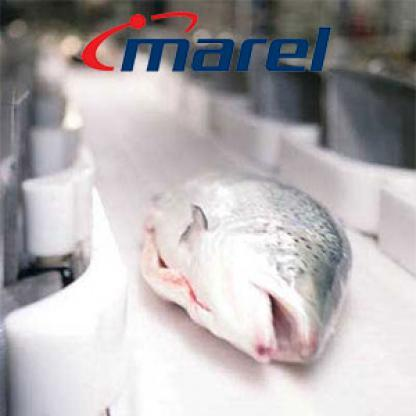fish: (102, 102, 357, 364)
